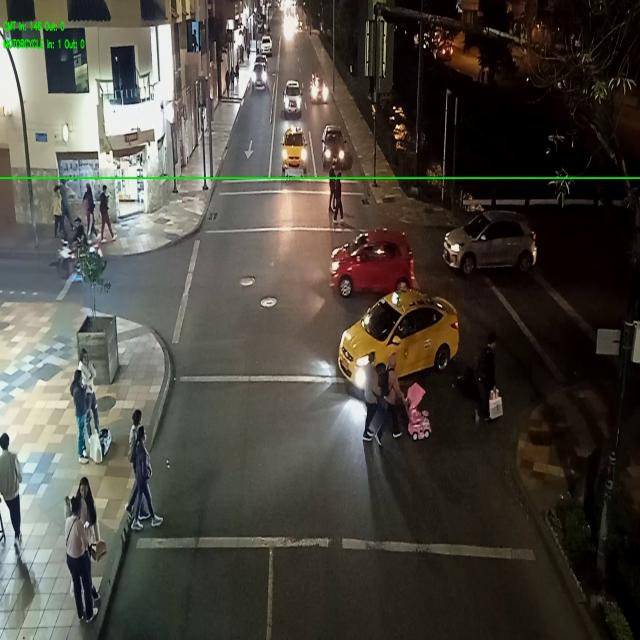MOTORCYCLE: (55, 242, 105, 285)
SED: (341, 299, 448, 382), (334, 237, 411, 293), (283, 129, 305, 170)
SUV: (447, 215, 535, 268), (284, 83, 301, 117), (252, 66, 266, 86), (263, 37, 273, 56)
